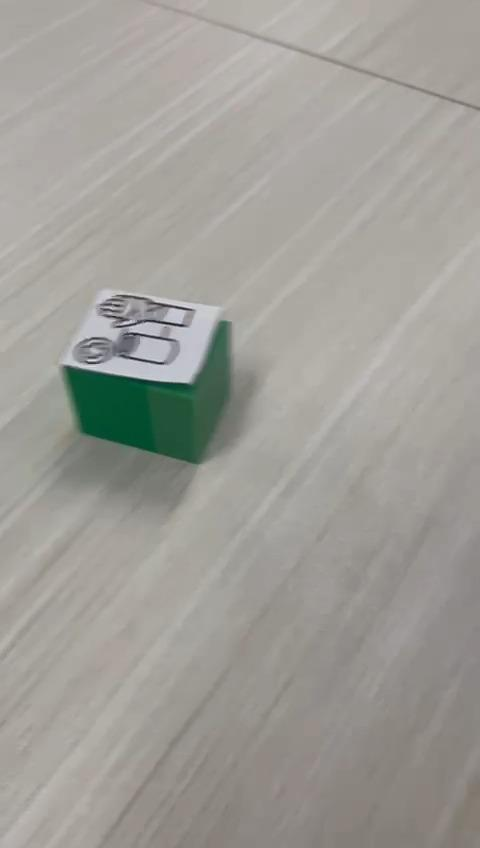Bandages: (61, 287, 234, 466)
